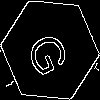G: (25, 25, 78, 80)
